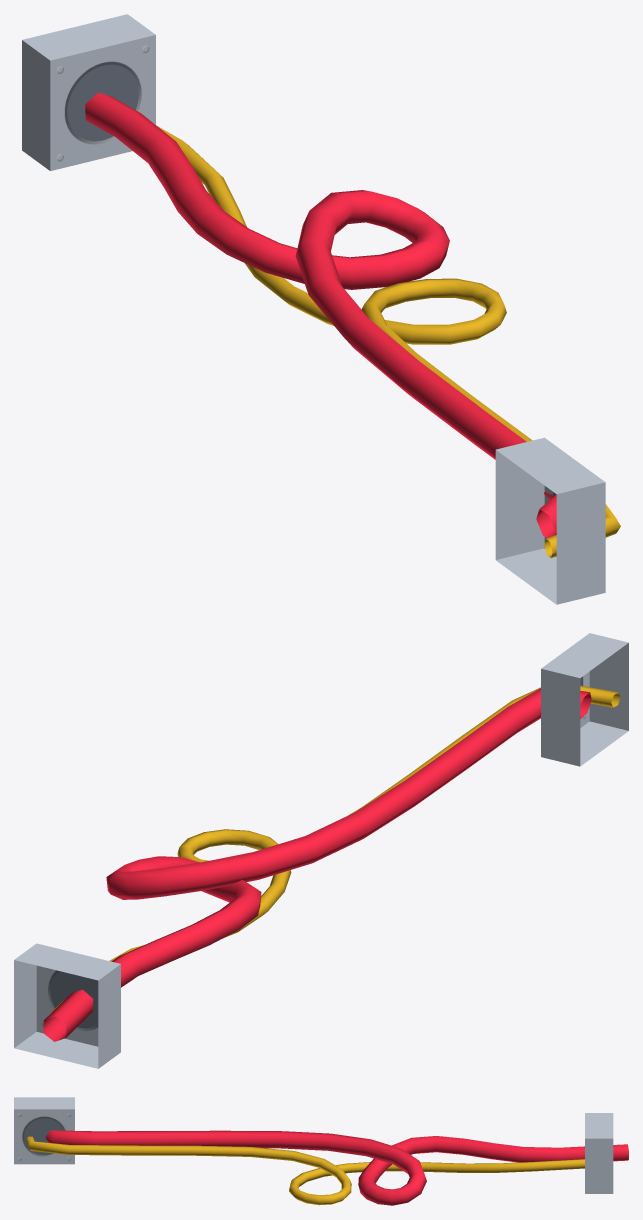
The model's file is kabel3.dae.
The picture shows the model from 3 angles, top to bottom: view 1: azimuth 30°, elevation 25°; view 2: azimuth 150°, elevation 25°; view 3: azimuth 270°, elevation 25°; orthographic projection. The views are drawn at different scales.
Visible parts, largest first — view 1: NurbsPath.007, Cube.071, Cube.075, NurbsPath.008; view 2: NurbsPath.007, Cube.071, Cube.075, NurbsPath.008; view 3: NurbsPath.007, NurbsPath.008, Cube.075, Cube.071.
Boxes of the visible parts, x1,y1,x2,y2 form: NurbsPath.007: (85, 92, 556, 537); Cube.071: (22, 14, 155, 170); Cube.075: (495, 437, 605, 604); NurbsPath.008: (156, 125, 620, 557); NurbsPath.007: (43, 688, 591, 1041); Cube.071: (14, 943, 120, 1068); Cube.075: (541, 633, 628, 766); NurbsPath.008: (51, 685, 620, 1012); NurbsPath.007: (45, 1130, 628, 1205); NurbsPath.008: (25, 1136, 584, 1205); Cube.075: (14, 1097, 74, 1164); Cube.071: (585, 1113, 613, 1193).
Bounding box in the file's own units: 1.2 × 4.84 × 0.4798.
